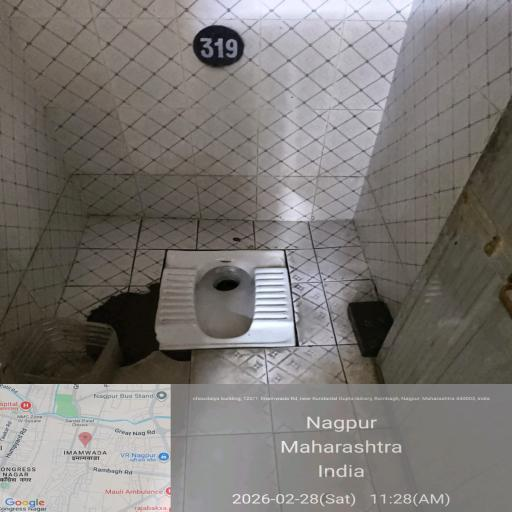clean_floor: (0, 0, 486, 225)
partial_dirty_floor: (294, 237, 386, 378), (63, 229, 150, 357), (137, 348, 295, 382)
partial_dirty_indian: (161, 248, 297, 342)
